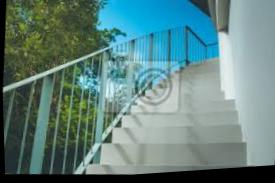Bench: (71, 46, 260, 179)
